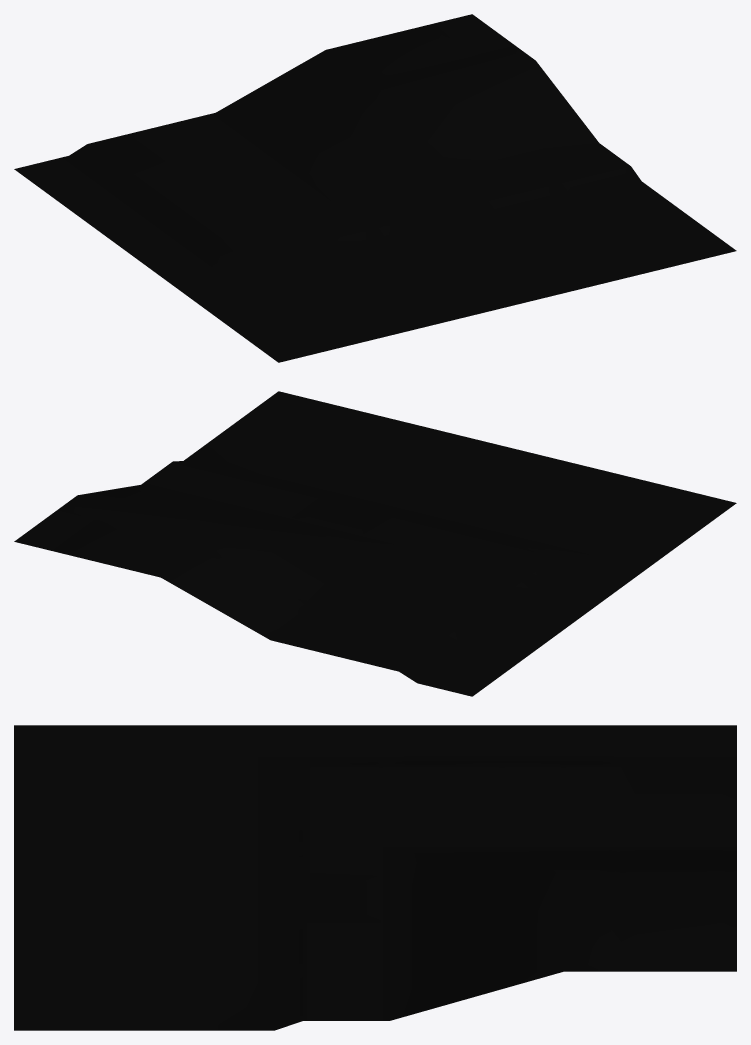
The picture shows the model from 3 angles, top to bottom: view 1: azimuth 30°, elevation 25°; view 2: azimuth 150°, elevation 25°; view 3: azimuth 270°, elevation 25°; orthographic projection. The views are drawn at different scales.
Parts seen in each view (by area): view 1: Joint_0_Object_0, Joint_0_Object_1, Joint_0_Object_2; view 2: Joint_0_Object_0, Joint_0_Object_1, Joint_0_Object_2; view 3: Joint_0_Object_0, Joint_0_Object_1, Joint_0_Object_2.
Part boxes in pixels (x1,y1,x2,y2): Joint_0_Object_0: (14,14,736,362); Joint_0_Object_1: (61,24,684,285); Joint_0_Object_2: (101,71,607,350); Joint_0_Object_0: (14,391,736,696); Joint_0_Object_1: (55,429,599,685); Joint_0_Object_2: (146,434,688,644); Joint_0_Object_0: (14,725,736,1030); Joint_0_Object_1: (155,756,736,1030); Joint_0_Object_2: (14,725,736,1020).
Bounding box in the file's own units: 10000 × 912 × 10000.
Materials: 3 (3 with a texture image).
